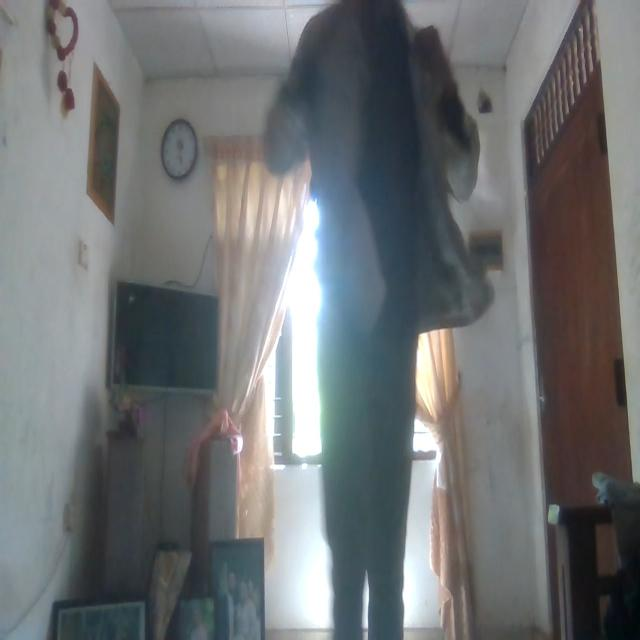Jacket_Wearer: (271, 4, 485, 313)
Person: (266, 0, 482, 640)
